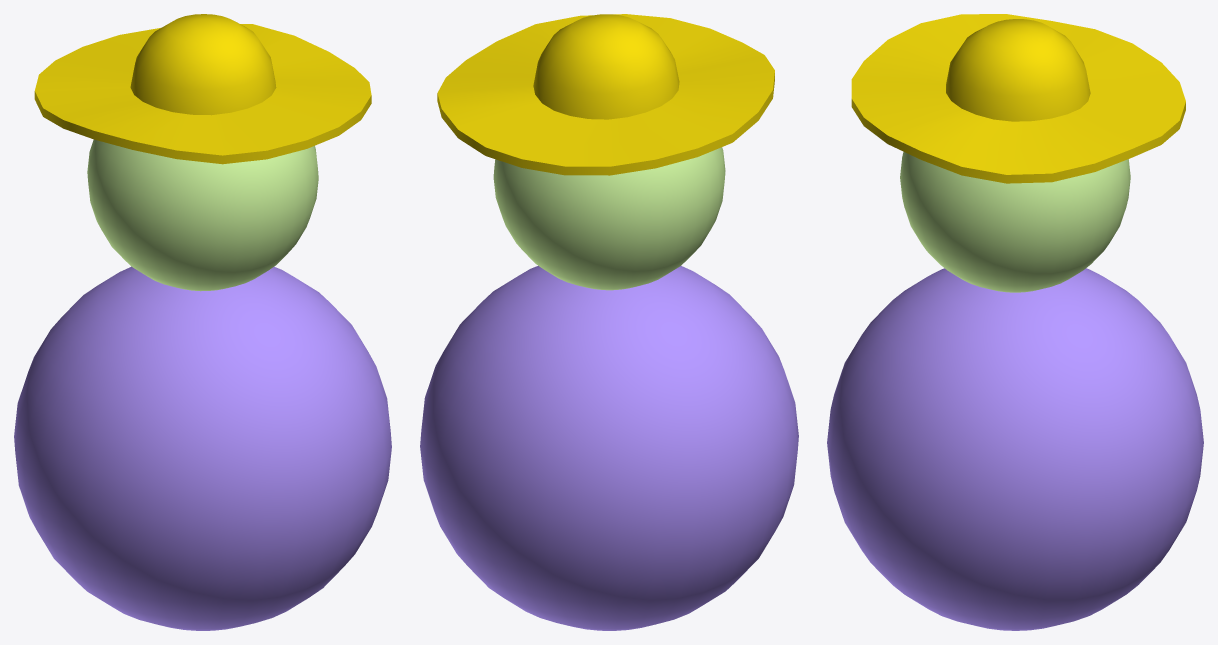
File: Gosn6.fbx
The picture shows the model from 3 angles, left to right: view 1: azimuth 30°, elevation 25°; view 2: azimuth 150°, elevation 25°; view 3: azimuth 270°, elevation 25°; orthographic projection.
Visible parts, largest first — view 1: cika_1_1, cika_1_1.002, cika_1_1.001; view 2: cika_1_1, cika_1_1.002, cika_1_1.001; view 3: cika_1_1, cika_1_1.002, cika_1_1.001.
Part boxes in pixels (x1=…): cika_1_1: x1=14, y1=266, x2=391, y2=630; cika_1_1.002: x1=34, y1=14, x2=371, y2=164; cika_1_1.001: x1=87, y1=139, x2=318, y2=291; cika_1_1: x1=420, y1=266, x2=798, y2=630; cika_1_1.002: x1=437, y1=14, x2=774, y2=175; cika_1_1.001: x1=493, y1=147, x2=725, y2=290; cika_1_1: x1=827, y1=268, x2=1203, y2=630; cika_1_1.002: x1=851, y1=14, x2=1185, y2=183; cika_1_1.001: x1=900, y1=151, x2=1130, y2=292.
Size of the model in its own units: 5301 by 9067 by 5301.
